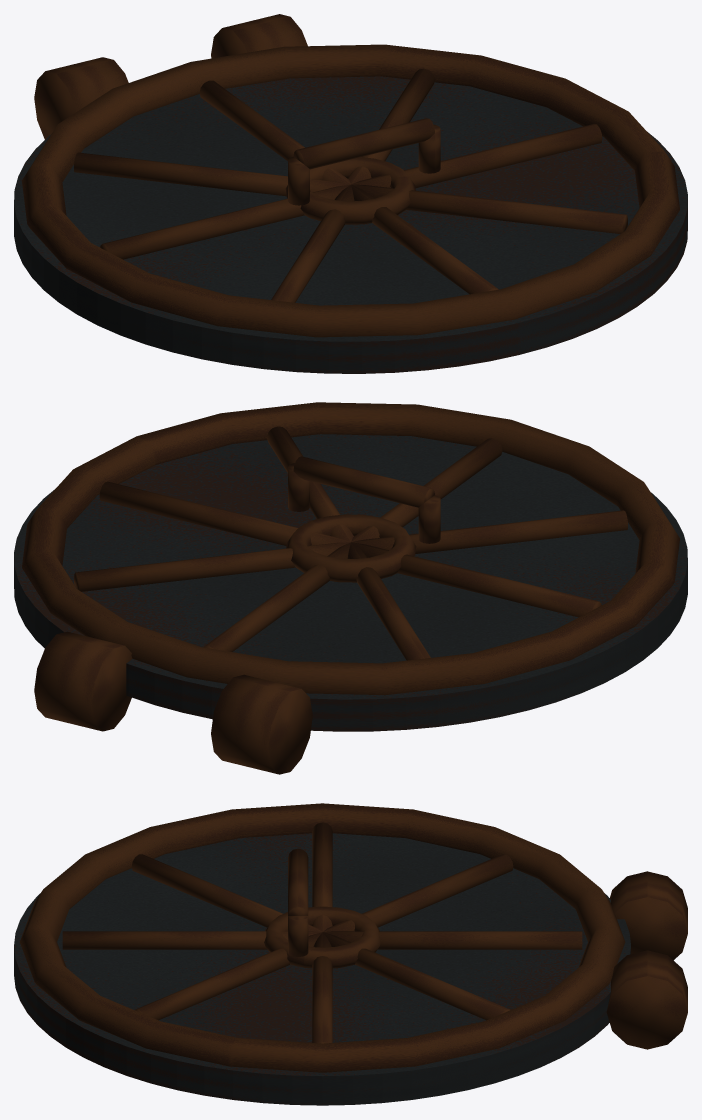
Rendered from hatch_lid.glb.
The picture shows the model from 3 angles, top to bottom: view 1: azimuth 30°, elevation 25°; view 2: azimuth 150°, elevation 25°; view 3: azimuth 270°, elevation 25°; orthographic projection. The views are drawn at different scales.
Parts seen in each view (by area): view 1: Domed iron hatch lid, Lid raised outer rim, Radial reinforcing rib.005, Radial reinforcing rib.001, Radial reinforcing rib, Radial reinforcing rib.004, Hinge spindle.001, Central service ring, Radial reinforcing rib.006, Handle.001, Radial reinforcing rib.002, Hinge spindle (+4 smaller); view 2: Domed iron hatch lid, Lid raised outer rim, Hinge spindle.001, Hinge spindle, Radial reinforcing rib.003, Radial reinforcing rib.007, Central service ring, Radial reinforcing rib.004, Radial reinforcing rib, Radial reinforcing rib.002, Handle.001, Radial reinforcing rib.006 (+4 smaller); view 3: Domed iron hatch lid, Lid raised outer rim, Hinge spindle, Hinge spindle.001, Radial reinforcing rib.002, Radial reinforcing rib.006, Radial reinforcing rib.001, Radial reinforcing rib.003, Central service ring, Radial reinforcing rib.005, Radial reinforcing rib.007, Radial reinforcing rib.004 (+3 smaller).
Boxes of the visible parts, box(x1,y1,x2,y2) form: Domed iron hatch lid: box(14, 76, 687, 373); Lid raised outer rim: box(22, 44, 679, 337); Radial reinforcing rib.005: box(352, 184, 627, 233); Radial reinforcing rib.001: box(74, 152, 350, 196); Radial reinforcing rib: box(100, 184, 350, 259); Radial reinforcing rib.004: box(351, 124, 602, 187); Hinge spindle.001: box(34, 57, 128, 139); Central service ring: box(285, 157, 415, 224); Radial reinforcing rib.006: box(351, 184, 498, 294); Handle.001: box(293, 118, 434, 169); Radial reinforcing rib.002: box(199, 80, 350, 184); Hinge spindle: box(211, 14, 307, 58); Domed iron hatch lid: box(14, 434, 687, 731); Lid raised outer rim: box(22, 402, 679, 695); Hinge spindle.001: box(211, 674, 312, 774); Hinge spindle: box(34, 631, 132, 731); Radial reinforcing rib.003: box(74, 542, 350, 591); Radial reinforcing rib.007: box(352, 510, 627, 553); Central service ring: box(286, 514, 416, 582); Radial reinforcing rib.004: box(99, 481, 350, 545); Radial reinforcing rib: box(351, 542, 601, 617); Radial reinforcing rib.002: box(203, 542, 350, 651); Handle.001: box(293, 456, 434, 507); Radial reinforcing rib.006: box(351, 438, 502, 542); Domed iron hatch lid: box(14, 833, 630, 1105); Lid raised outer rim: box(20, 803, 625, 1072); Hinge spindle: box(606, 950, 687, 1049); Hinge spindle.001: box(610, 871, 687, 960); Radial reinforcing rib.002: box(323, 931, 582, 949); Radial reinforcing rib.006: box(62, 931, 322, 949); Radial reinforcing rib.001: box(323, 854, 513, 931); Radial reinforcing rib.003: box(323, 932, 510, 1020); Central service ring: box(264, 906, 380, 968); Radial reinforcing rib.005: box(135, 932, 321, 1020); Radial reinforcing rib.007: box(131, 854, 321, 931); Radial reinforcing rib.004: box(312, 932, 332, 1043).
Bounding box in the file's own units: 1.52 × 0.325 × 1.66.
2 materials, 2 textured.
